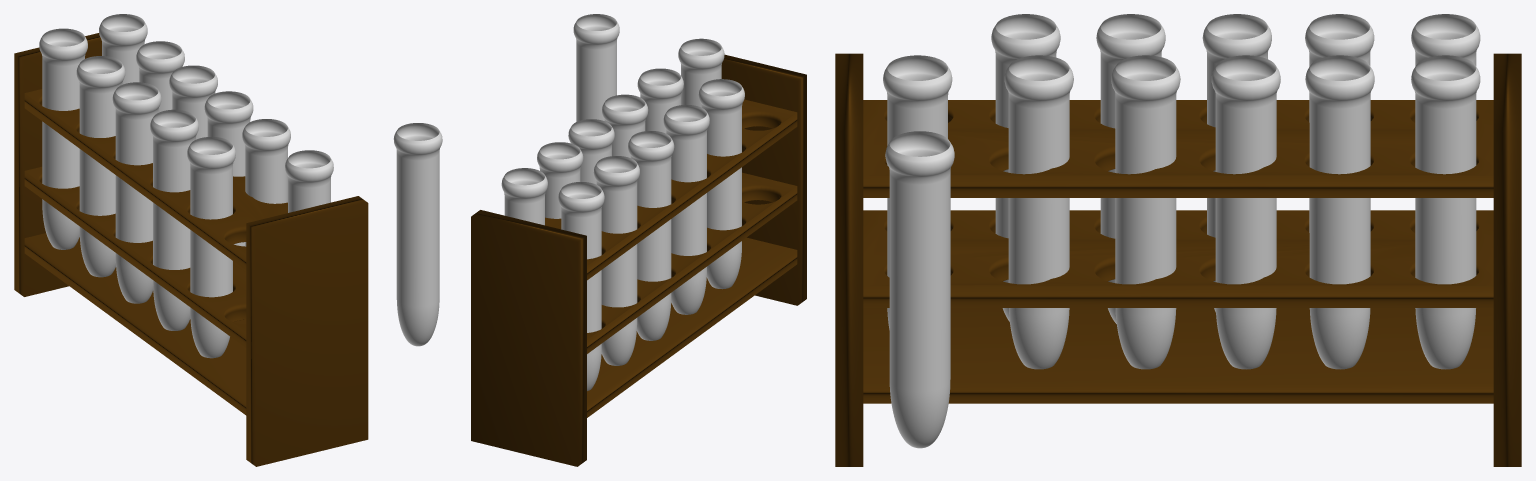
File: test tubes.fbx
3 renders of one model, left to right at view 1: azimuth 30°, elevation 25°; view 2: azimuth 150°, elevation 25°; view 3: azimuth 270°, elevation 25°, orthographic. The views are drawn at different scales.
Parts seen in each view (by area): view 1: Cube.008, Cylinder.005, Cube.007, Cube.001, Cylinder.004, Cube.009, Cylinder.002, Cube, Cylinder, Cylinder.003, Cylinder.001, Cylinder.010 (+5 smaller); view 2: Cube.009, Cube.008, Cube.007, Cube.001, Cube, Cylinder.001, Cylinder.003, Cylinder.004, Cylinder.002, Cylinder.005, Cylinder, Cylinder.011 (+5 smaller); view 3: Cube.007, Cube.001, Cube, Cylinder.005, Cylinder.007, Cylinder.006, Cylinder.008, Cylinder.010, Cylinder.009, Cube.008, Cube.009, Cylinder.011 (+5 smaller).
Boxes of the visible parts, left/top/right/bottom form: Cube.008: left=246, top=196, right=368, bottom=466; Cylinder.005: left=393, top=123, right=442, bottom=346; Cube.007: left=24, top=233, right=246, bottom=415; Cube.001: left=24, top=89, right=287, bottom=270; Cylinder.004: left=187, top=137, right=235, bottom=358; Cube.009: left=14, top=33, right=101, bottom=296; Cylinder.002: left=112, top=82, right=161, bottom=303; Cube: left=24, top=166, right=246, bottom=347; Cylinder: left=39, top=28, right=87, bottom=249; Cylinder.003: left=150, top=109, right=198, bottom=330; Cylinder.001: left=76, top=56, right=125, bottom=277; Cylinder.010: left=242, top=119, right=290, bottom=246; Cube.009: left=471, top=210, right=586, bottom=466; Cube.008: left=721, top=54, right=806, bottom=305; Cube.007: left=587, top=237, right=797, bottom=417; Cube.001: left=545, top=99, right=797, bottom=280; Cube: left=587, top=172, right=797, bottom=353; Cylinder.001: left=593, top=156, right=639, bottom=365; Cylinder.003: left=663, top=105, right=709, bottom=314; Cylinder.004: left=698, top=79, right=744, bottom=289; Cylinder.002: left=628, top=131, right=674, bottom=340; Cylinder.005: left=573, top=14, right=619, bottom=121; Cylinder: left=558, top=182, right=604, bottom=390; Cylinder.011: left=678, top=38, right=724, bottom=107; Cube.007: left=863, top=308, right=1493, bottom=403; Cube.001: left=863, top=100, right=1493, bottom=197; Cube: left=863, top=210, right=1493, bottom=307; Cylinder.005: left=885, top=131, right=954, bottom=448; Cylinder.007: left=1305, top=55, right=1374, bottom=369; Cylinder.006: left=1411, top=55, right=1480, bottom=369; Cylinder.008: left=1211, top=55, right=1280, bottom=369; Cylinder.010: left=1004, top=55, right=1073, bottom=369; Cylinder.009: left=1111, top=55, right=1180, bottom=369; Cube.008: left=835, top=53, right=863, bottom=466; Cube.009: left=1493, top=53, right=1521, bottom=466; Cylinder.011: left=883, top=55, right=952, bottom=329.
Size of the model in its own units: 240 by 287 by 472.
